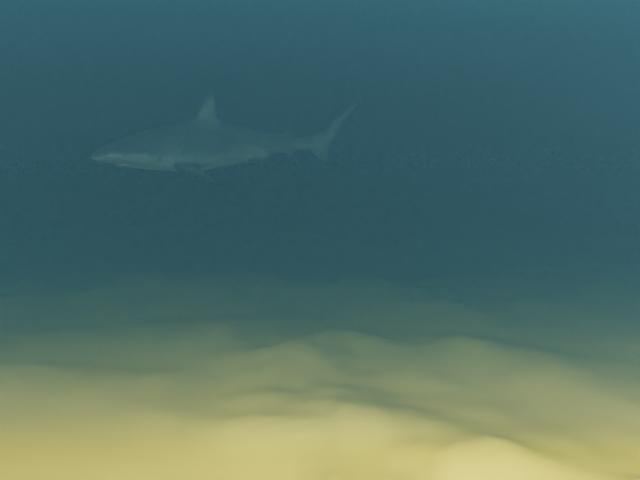Carribean Shark.001: (89, 92, 360, 180)
